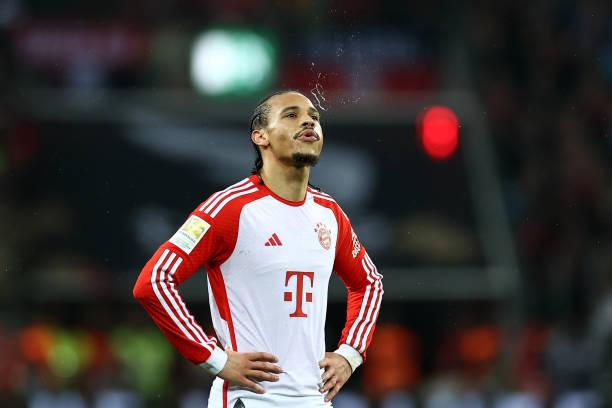Spitting: (218, 45, 366, 182)
